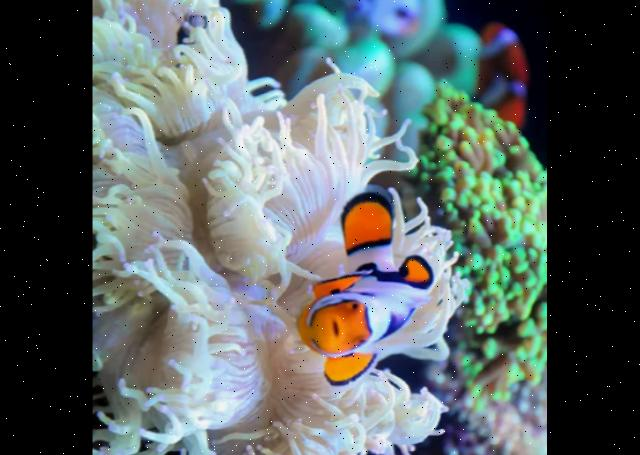Mulut: (316, 310, 348, 346)
Sirip Dada: (318, 342, 388, 393), (308, 264, 376, 300)
Sirip Ekor: (322, 176, 406, 252)
Sirip Punggung: (382, 249, 444, 312)
